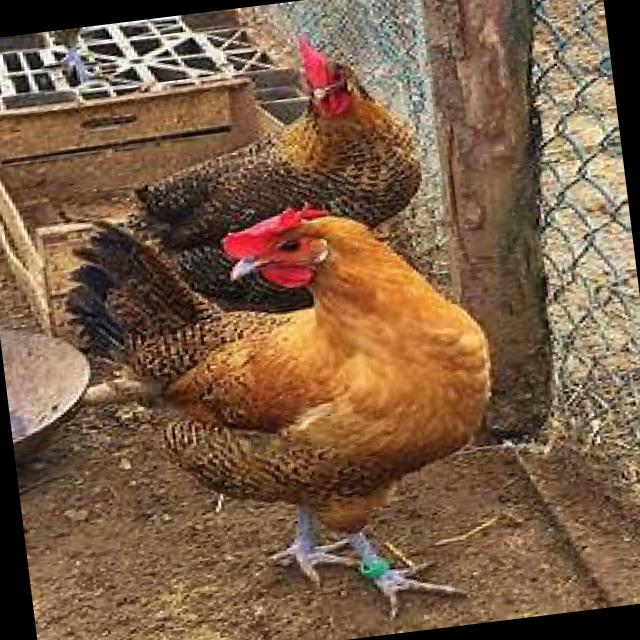chicken: (53, 169, 531, 640), (103, 21, 443, 334)
